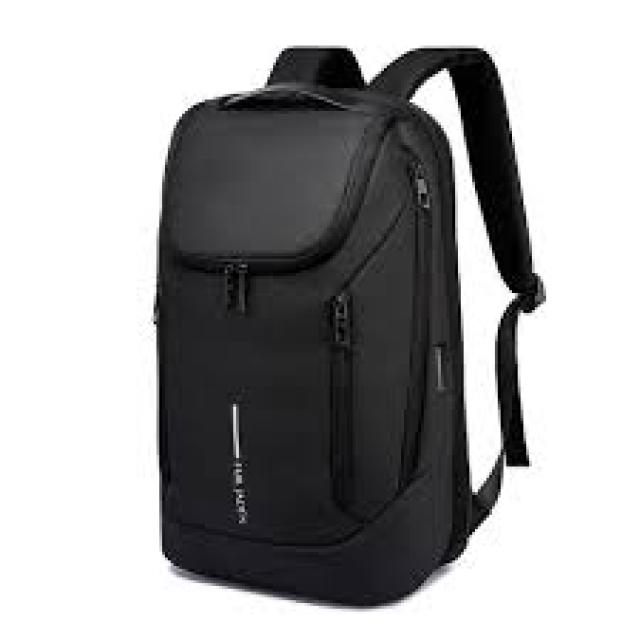backpack: (152, 44, 544, 607)
